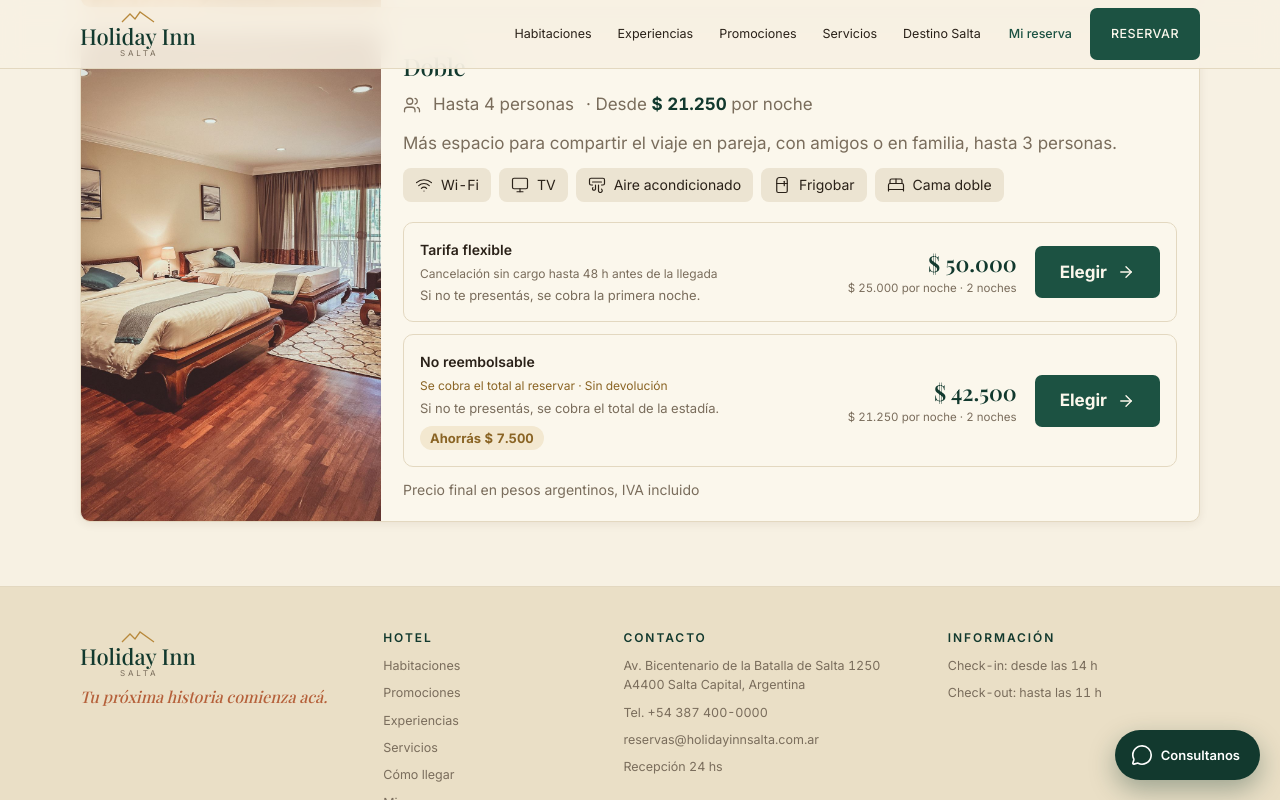
it: Resultados › Elegir: 'Cotizando…' y sin doble envío; OK → /web/datos con la cotización
The width and height of the screenshot is (1280, 800).
(page scrolled)
Click the button with aria-label "Elegir No reembolsable por $ 42.500" at {"x": 1097, "y": 401}, box [1035,375,1160,427]
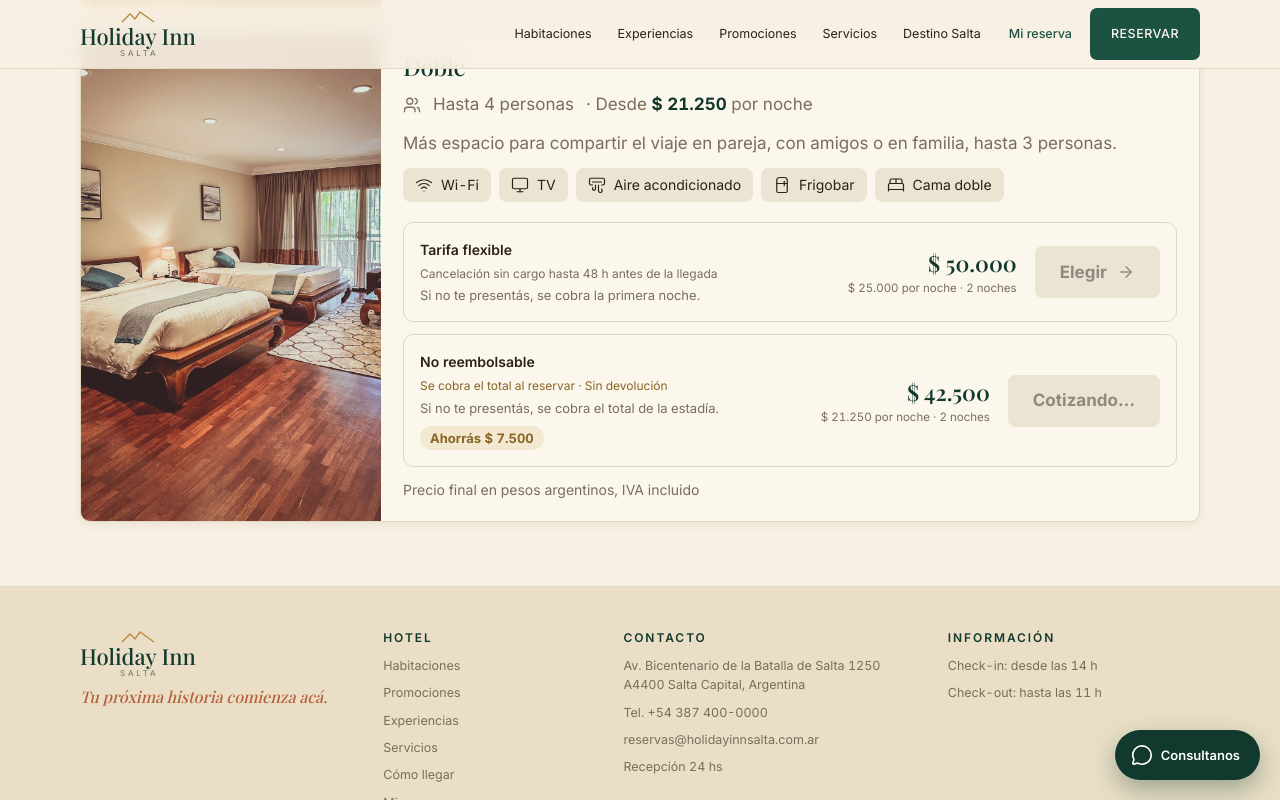
Now the button with aria-label "Elegir No reembolsable por $ 42.500" reads "Cotizando…"
Now the button with aria-label "Elegir No reembolsable por $ 42.500" is disabled
Now the button "Elegir" is disabled, box [1035,246,1160,298]
Click the button with aria-label "Elegir" at {"x": 1084, "y": 401}, box [1008,375,1160,427]
(page scrolled)
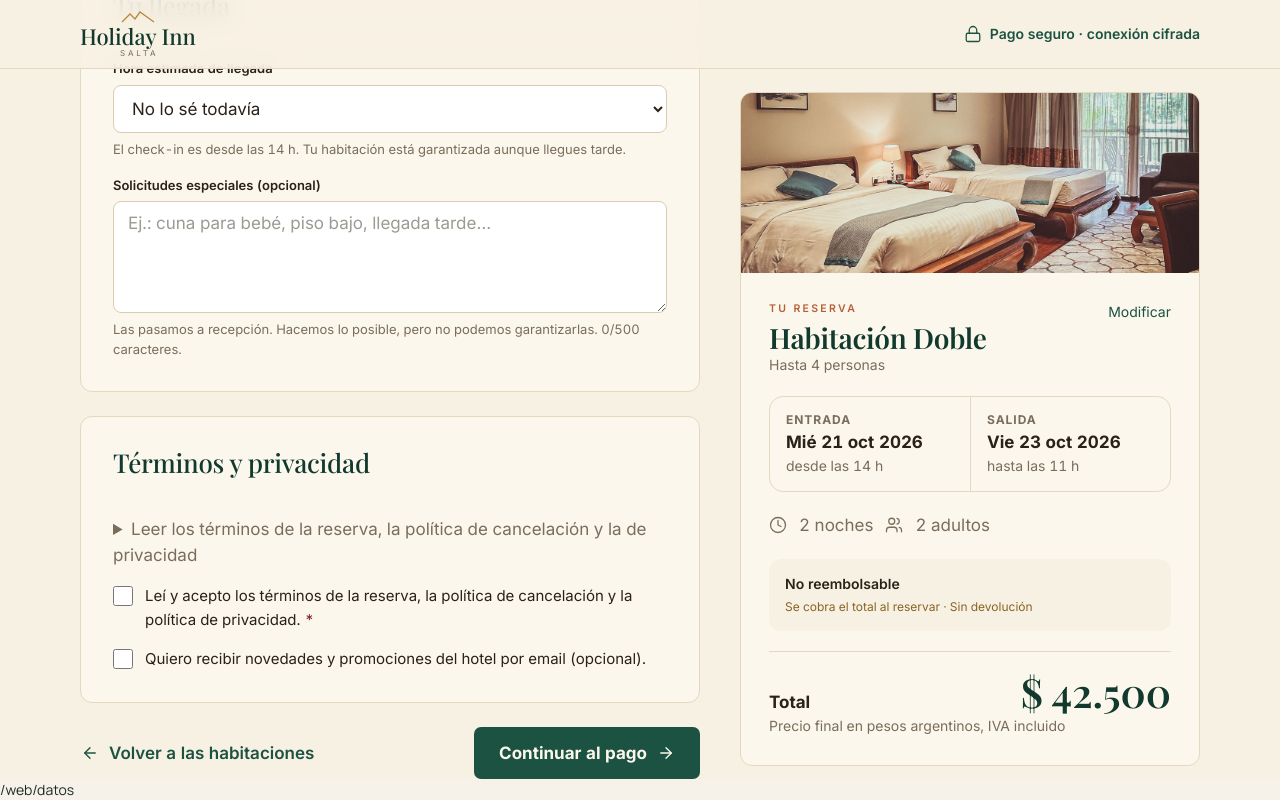
Now the text with test id "ruta" reads "/web/datos", box [0,780,74,799]
